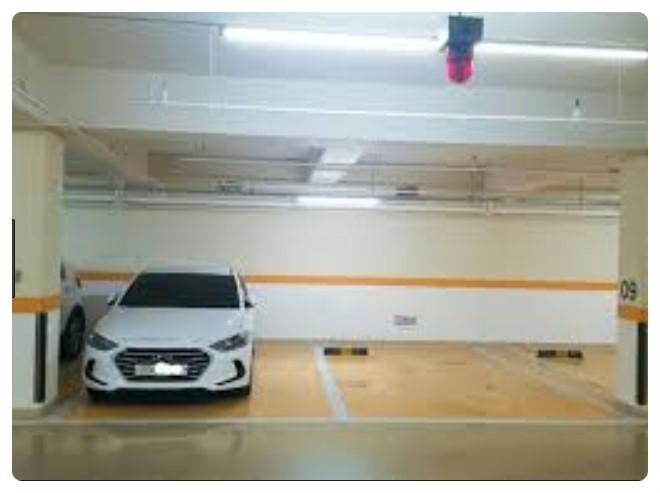empty: (340, 272, 618, 425)
occupied: (60, 272, 315, 410)
